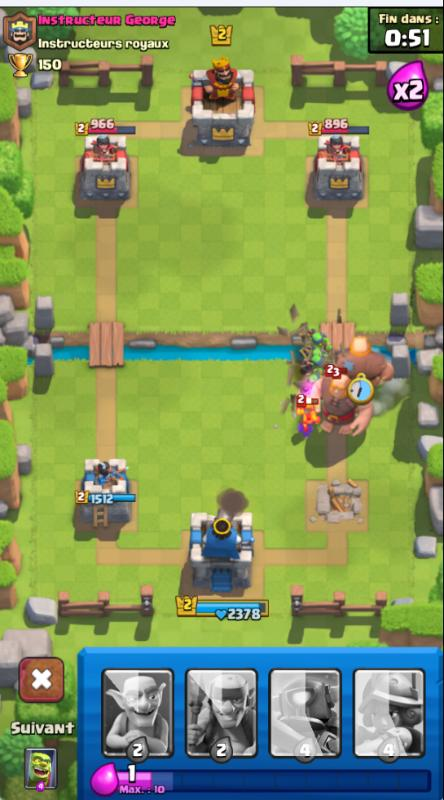geant: (310, 371, 373, 438), (337, 335, 395, 388)
gobelin: (296, 396, 318, 441)
gobelin_lances: (302, 326, 333, 353), (297, 371, 320, 398), (306, 346, 327, 371)
